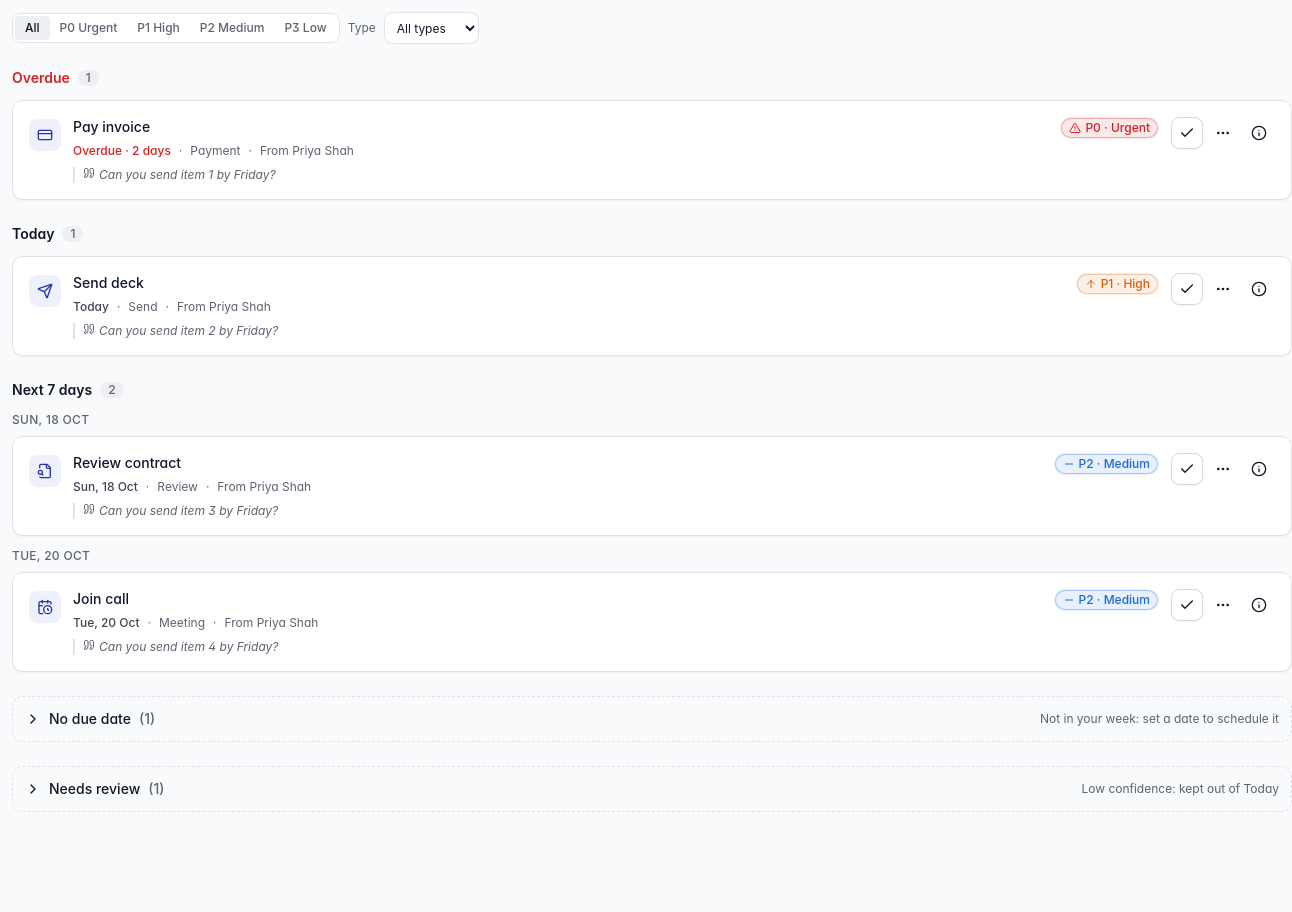
TaskBoard › filters by priority and type, and offers to clear an empty result
Click the button "P2 Medium" at (232, 28), box [190,16,274,40]
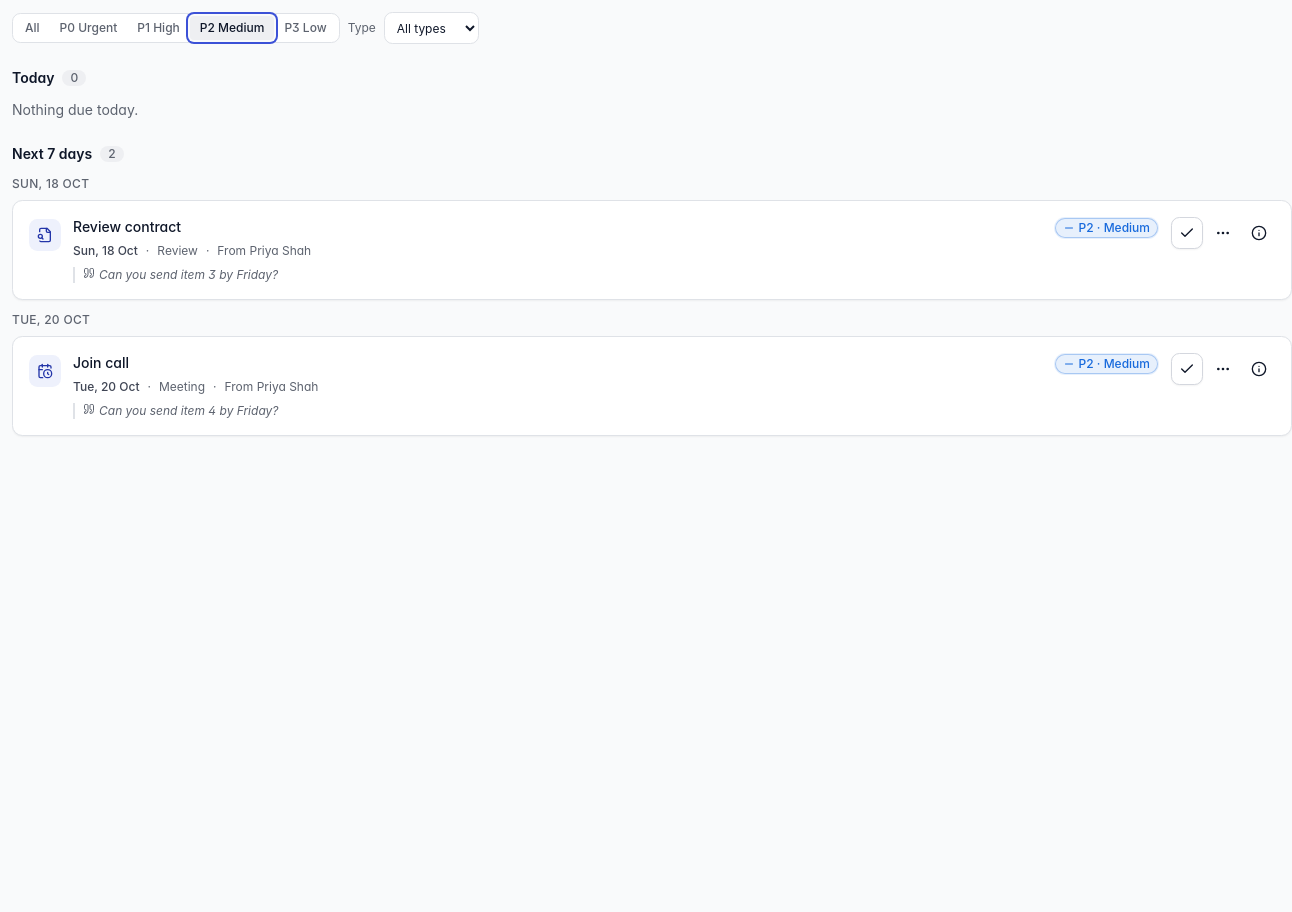
Check: the text "Review contract" is shown, box [73,218,181,235]
Check: the text "Pay invoice" is gone
Select "Meeting" in the dropdown named "Task type" at (431, 28), box [384,12,479,44]
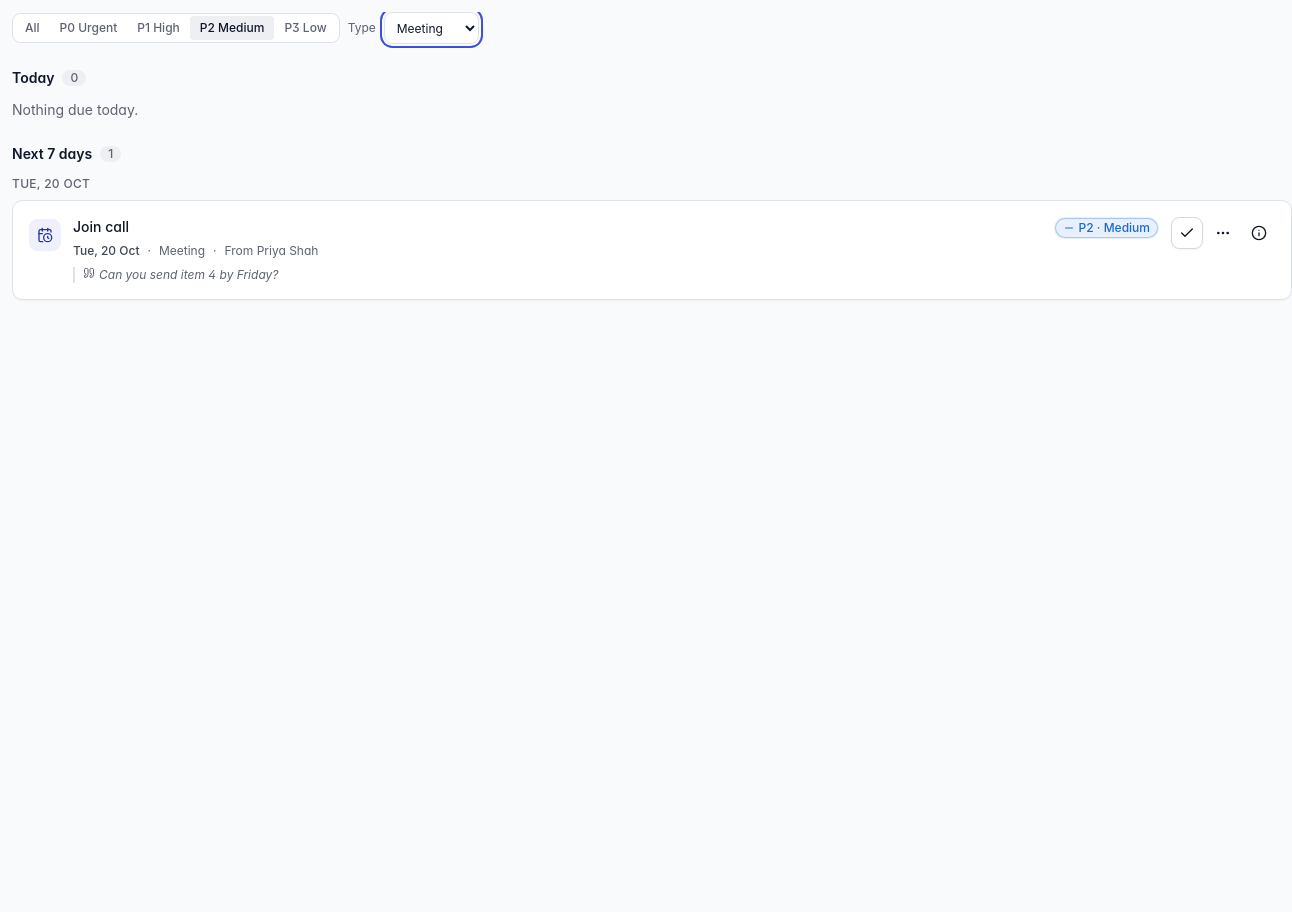
Check: the text "Join call" is shown, box [73,218,129,235]
Check: the text "Review contract" is gone
Select "Payment" in the dropdown named "Task type" at (431, 28), box [384,12,479,44]
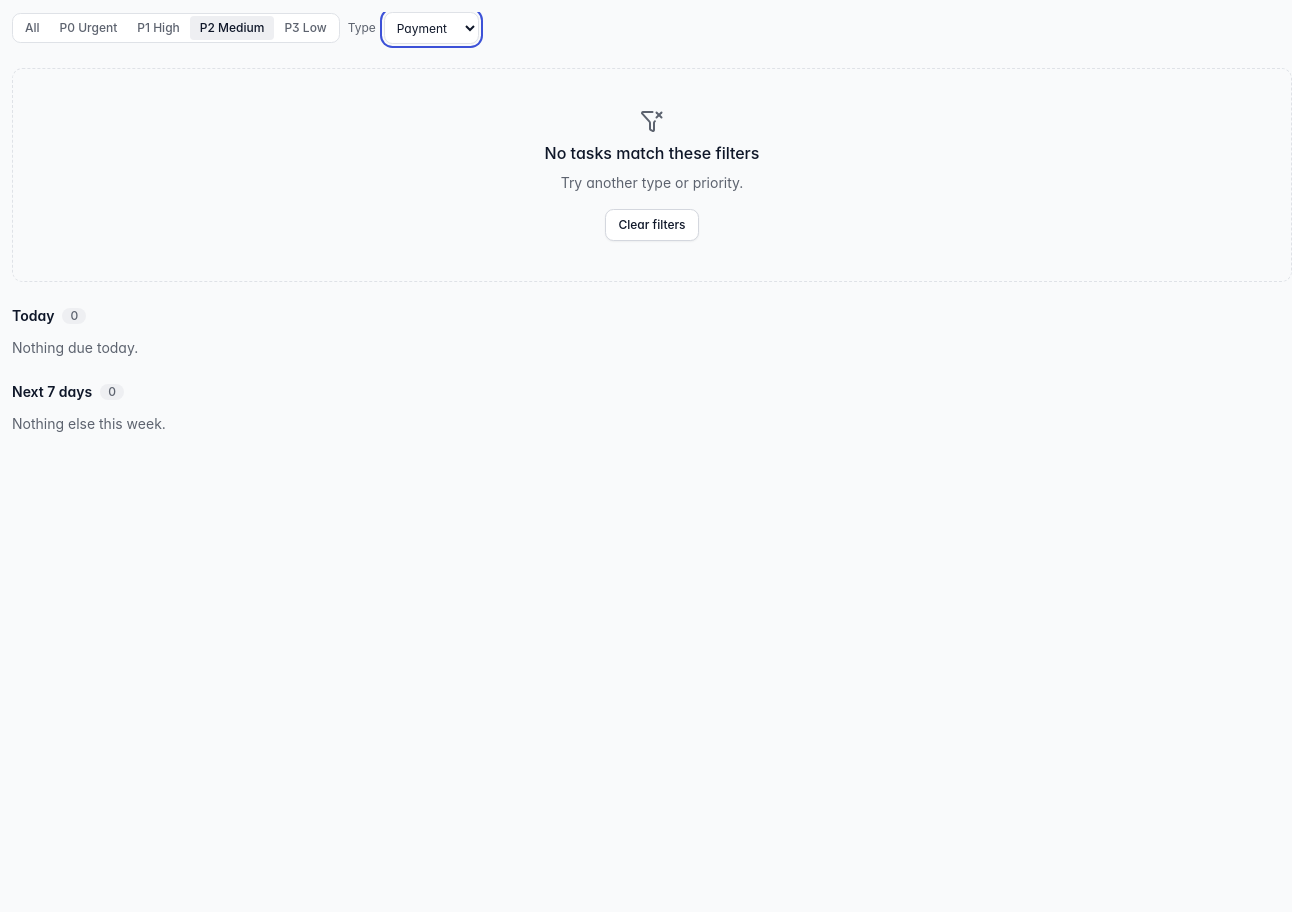
Check: the text "No tasks match these filters" is shown, box [545,141,759,165]
Click the button "Clear filters" at (652, 225), box [606,209,699,241]
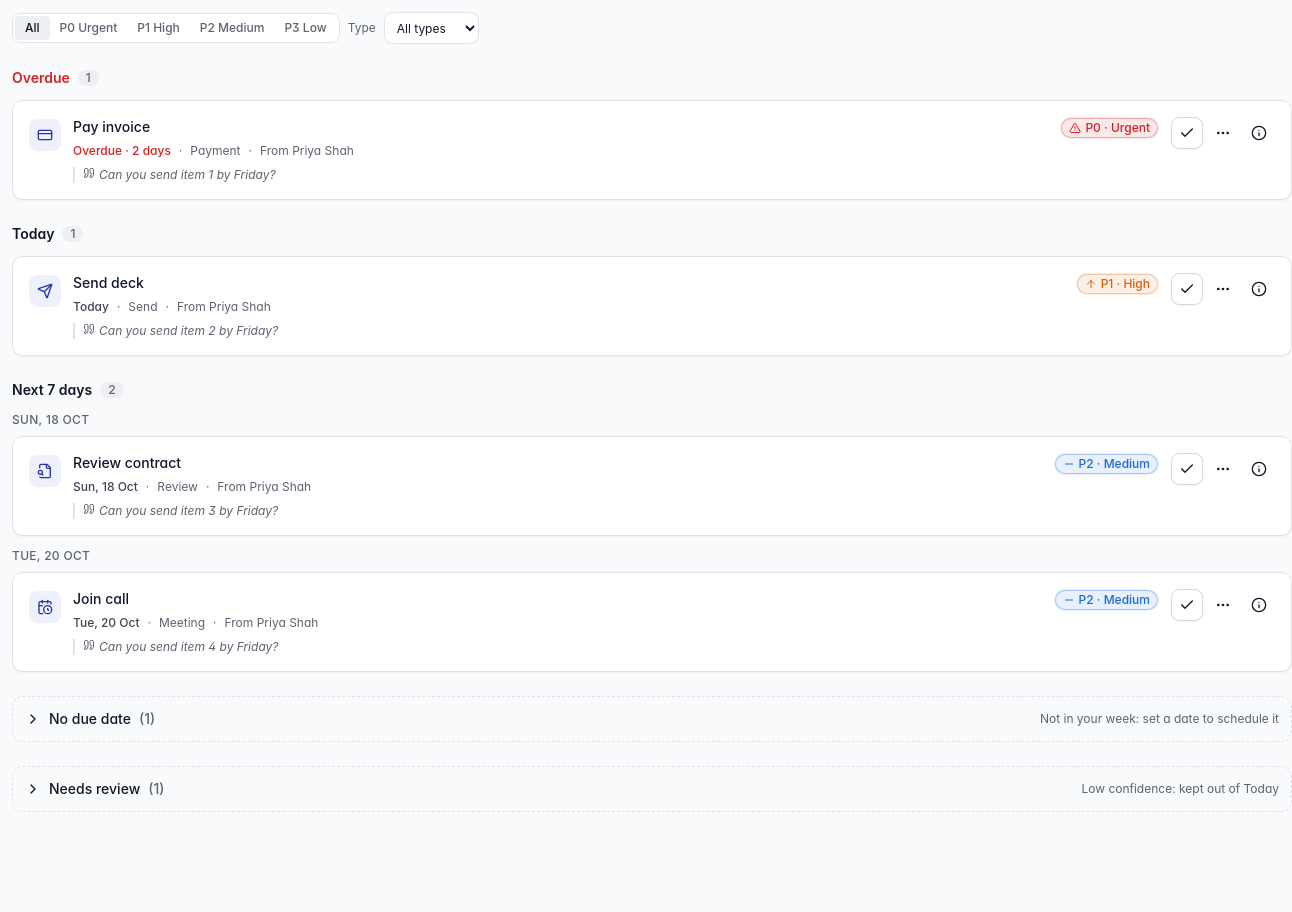
Check: the text "Pay invoice" is shown, box [73,118,150,135]
